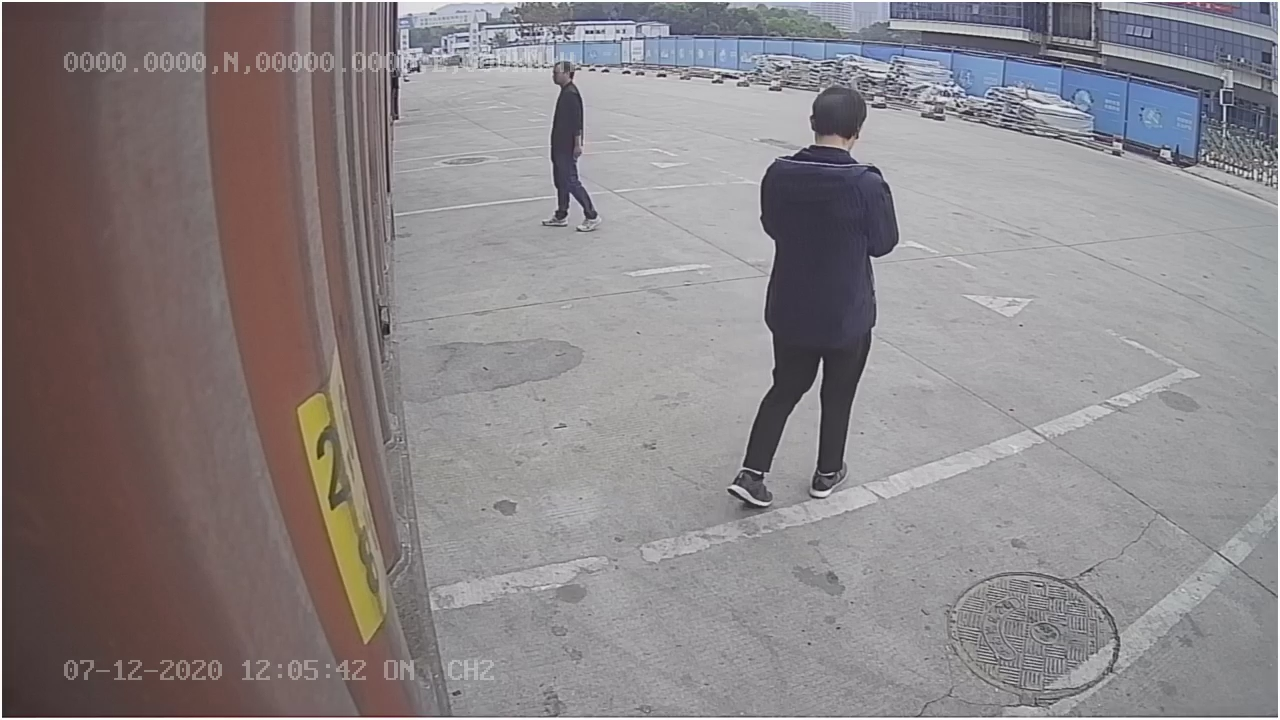person: (724, 84, 903, 506)
